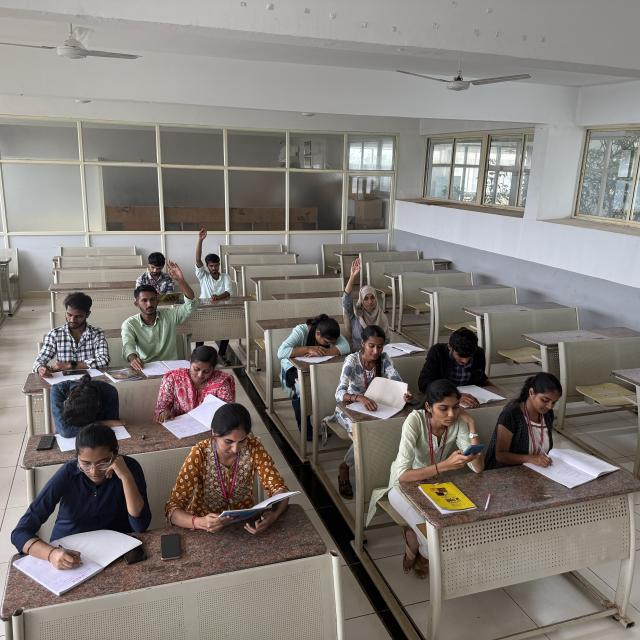Hand Rising: (121, 258, 197, 360), (333, 242, 402, 332), (191, 218, 239, 297)
Reading: (190, 400, 296, 529), (138, 349, 232, 432), (420, 315, 504, 406), (338, 323, 410, 417), (134, 246, 179, 308)
Sleeping: (42, 367, 130, 442), (260, 309, 350, 361)
Using Phone: (396, 379, 492, 478)
Writing: (25, 440, 159, 582), (500, 371, 591, 478), (20, 284, 113, 381)
